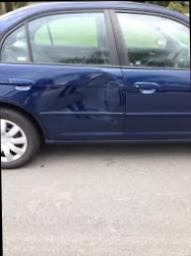Door: (0, 67, 129, 145)
